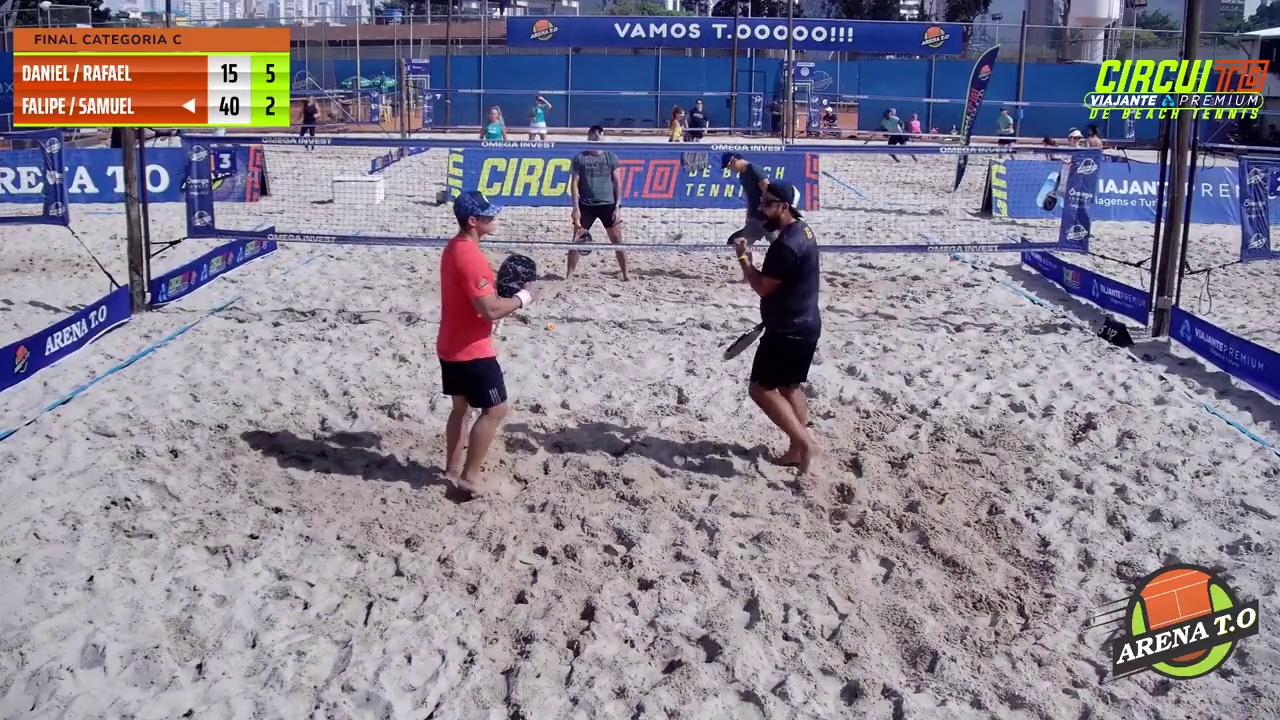court_line: (546, 0, 672, 507)
